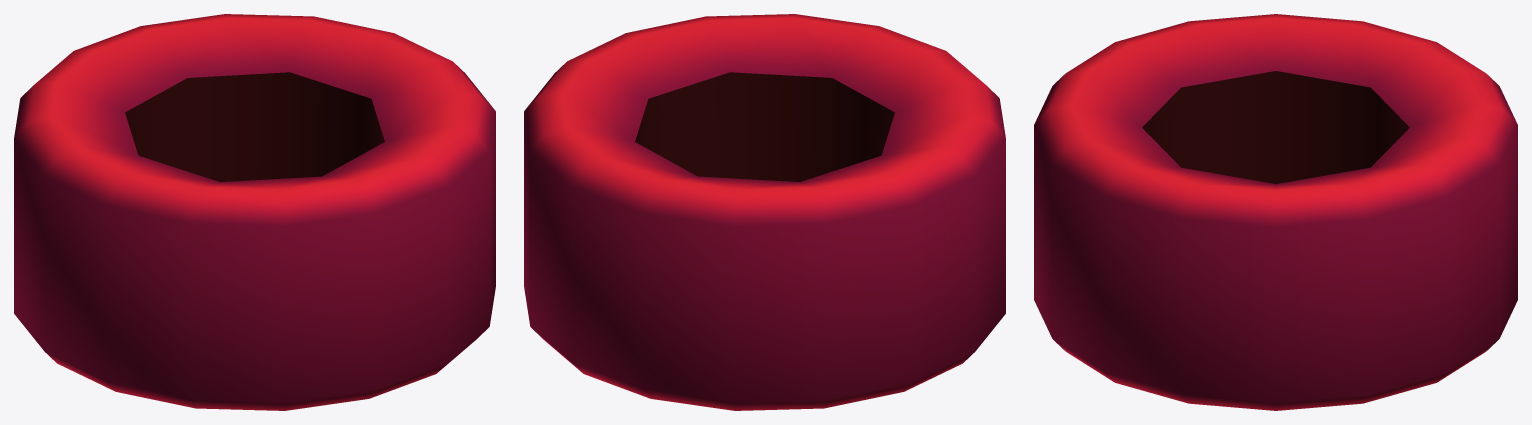
File: Impact_Tire_1B.fbx
3 views of the same model, side by side, from view 1: azimuth 30°, elevation 25°; view 2: azimuth 150°, elevation 25°; view 3: azimuth 270°, elevation 25° (orthographic).
Visible parts, largest first — view 1: Impact_Tire_1B; view 2: Impact_Tire_1B; view 3: Impact_Tire_1B.
Part boxes in pixels (x1=…): Impact_Tire_1B: x1=14, y1=14, x2=495, y2=410; Impact_Tire_1B: x1=524, y1=14, x2=1005, y2=410; Impact_Tire_1B: x1=1034, y1=14, x2=1517, y2=410.
Bounding box in the file's own units: 1.01 × 0.5 × 1.01.
